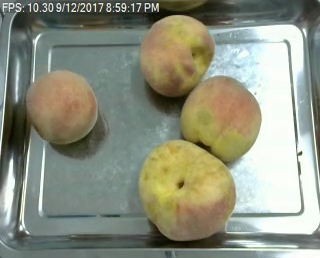Peach: (136, 137, 236, 240), (181, 75, 259, 163), (138, 13, 215, 96), (24, 68, 99, 145)
